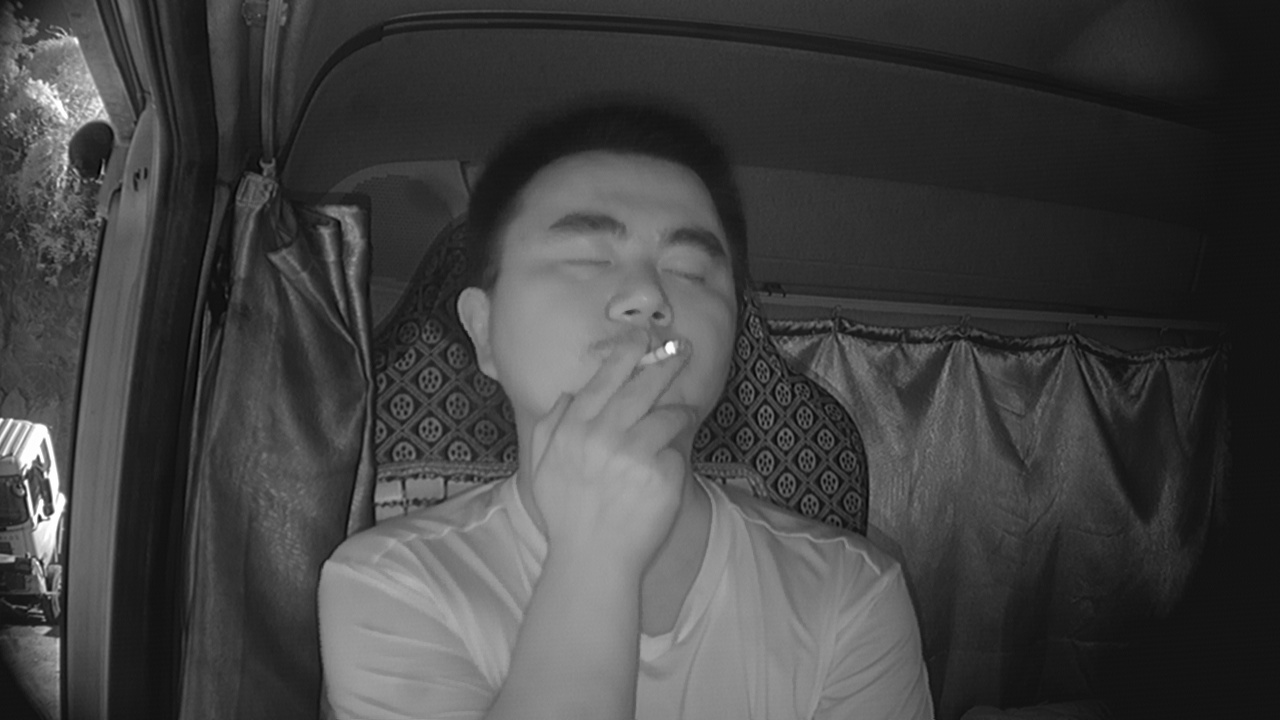hand: (532, 340, 696, 522)
